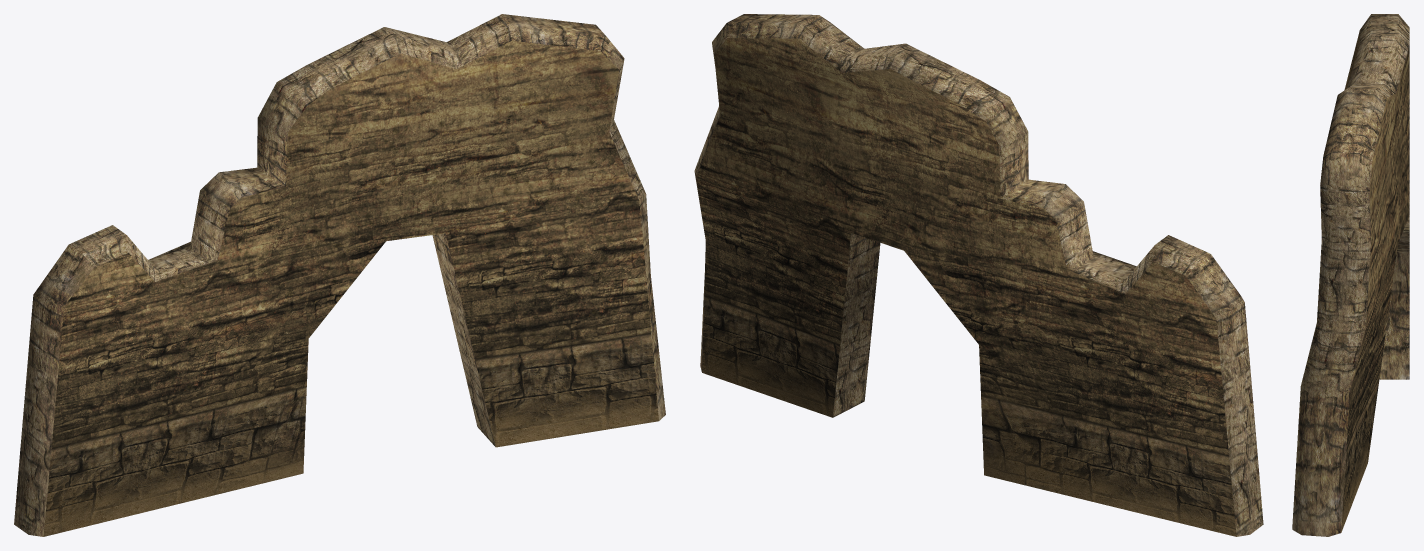
File: iwa.fbx
The picture shows the model from 3 angles, left to right: view 1: azimuth 30°, elevation 25°; view 2: azimuth 150°, elevation 25°; view 3: azimuth 270°, elevation 25°; orthographic projection. The views are drawn at different scales.
Parts seen in each view (by area): view 1: Object015; view 2: Object015; view 3: Object015.
Boxes of the visible parts, x1,y1,x2,y2 form: Object015: (14,14,665,536); Object015: (694,14,1263,536); Object015: (1292,14,1409,536).
Size of the model in its own units: 604 by 106 by 388.
Materials: 2 (2 with a texture image).
